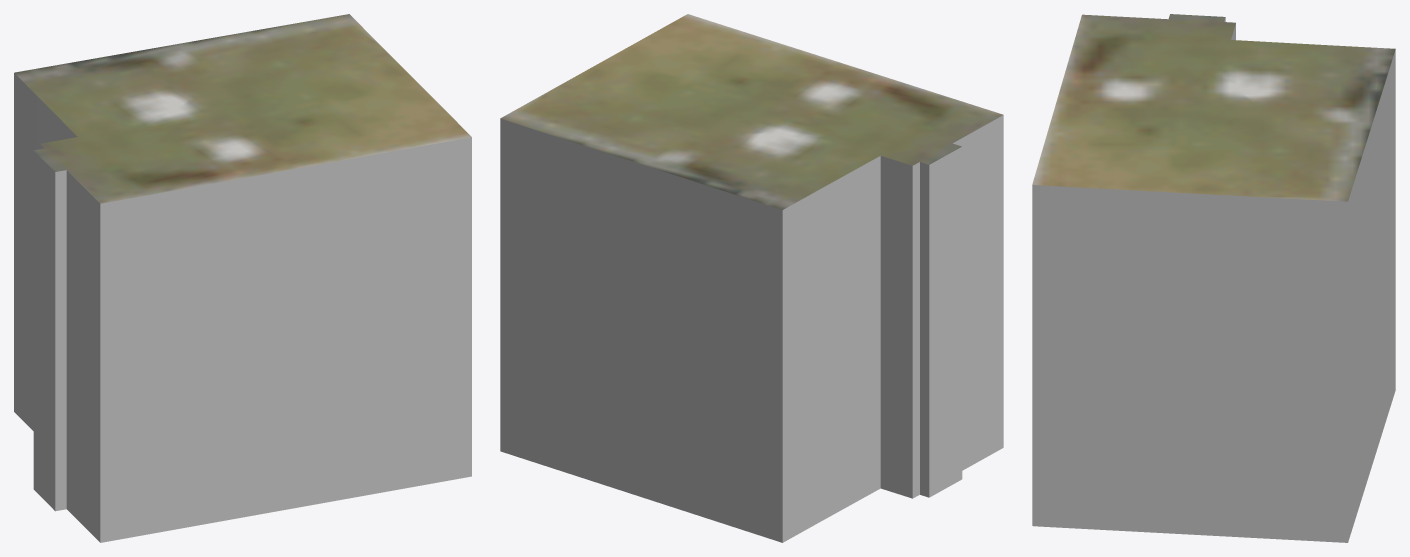
File: DEBW_0010007Tx5a.gltf
3 renders of one model, left to right at view 1: azimuth 30°, elevation 25°; view 2: azimuth 150°, elevation 25°; view 3: azimuth 270°, elevation 25°, orthographic. The views are drawn at different scales.
Parts seen in each view (by area): view 1: Z_UP; view 2: Z_UP; view 3: Z_UP.
Boxes of the visible parts, x1=… form: Z_UP: x1=14, y1=14, x2=471, y2=542; Z_UP: x1=500, y1=14, x2=1003, y2=542; Z_UP: x1=1032, y1=14, x2=1395, y2=542.
Size of the model in its own units: 10.79 by 9.14 by 8.83.
Materials: 2 (1 with a texture image).
